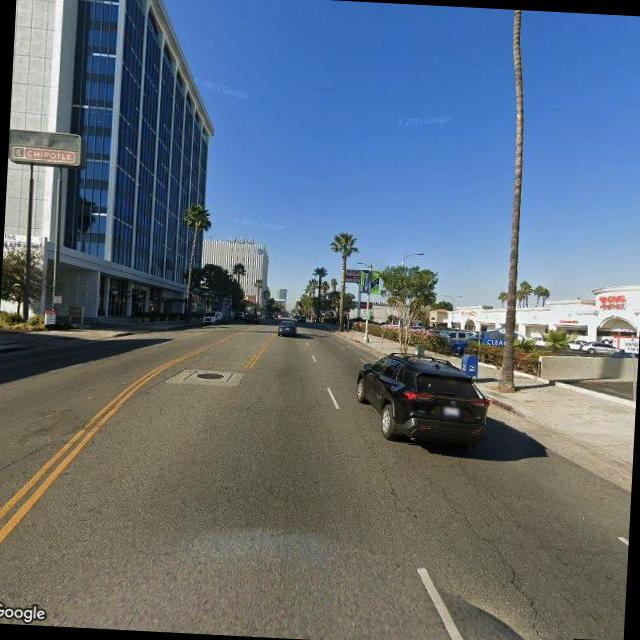crack: (389, 449, 562, 640)
